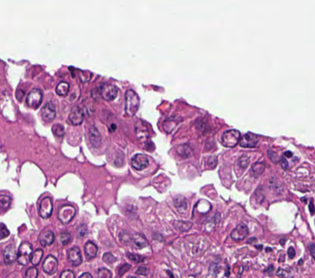nucleus: (221, 129, 240, 147), (125, 90, 138, 115), (26, 88, 42, 108), (69, 67, 91, 81), (99, 83, 117, 100), (58, 205, 75, 223), (68, 106, 84, 125), (38, 197, 52, 218), (231, 223, 248, 240), (239, 132, 257, 147), (41, 102, 55, 121), (131, 154, 148, 169), (88, 126, 100, 147), (39, 230, 54, 246), (131, 233, 147, 248), (164, 117, 180, 131), (269, 177, 281, 193), (56, 81, 69, 95), (251, 162, 264, 176), (174, 196, 186, 211), (177, 145, 191, 156), (174, 221, 191, 230), (52, 124, 64, 136), (238, 155, 248, 168), (60, 231, 70, 244), (268, 150, 278, 162), (207, 156, 216, 167), (91, 87, 99, 99), (280, 156, 288, 168), (78, 225, 86, 237), (309, 201, 313, 214), (284, 151, 291, 156)
